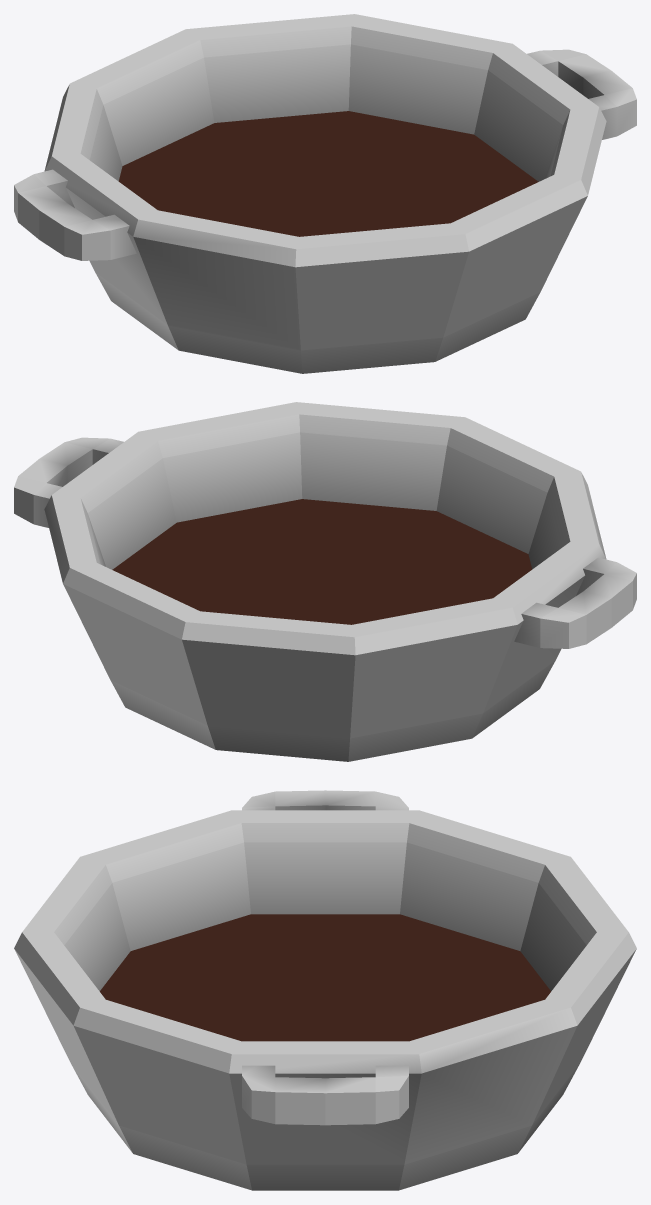
Rendered from pq_marmite_soupe_2.glb.
3 views of the same model, one above another, from view 1: azimuth 30°, elevation 25°; view 2: azimuth 150°, elevation 25°; view 3: azimuth 270°, elevation 25° (orthographic). The views are drawn at different scales.
Visible parts, largest first — view 1: CookingPot2_Soup; view 2: CookingPot2_Soup; view 3: CookingPot2_Soup.
Part boxes in pixels (x1,y1,x2,y2): CookingPot2_Soup: [14, 14, 636, 373]; CookingPot2_Soup: [14, 402, 636, 761]; CookingPot2_Soup: [14, 790, 636, 1190].
Size of the model in its own units: 0.481 by 0.1307 by 0.4184.
